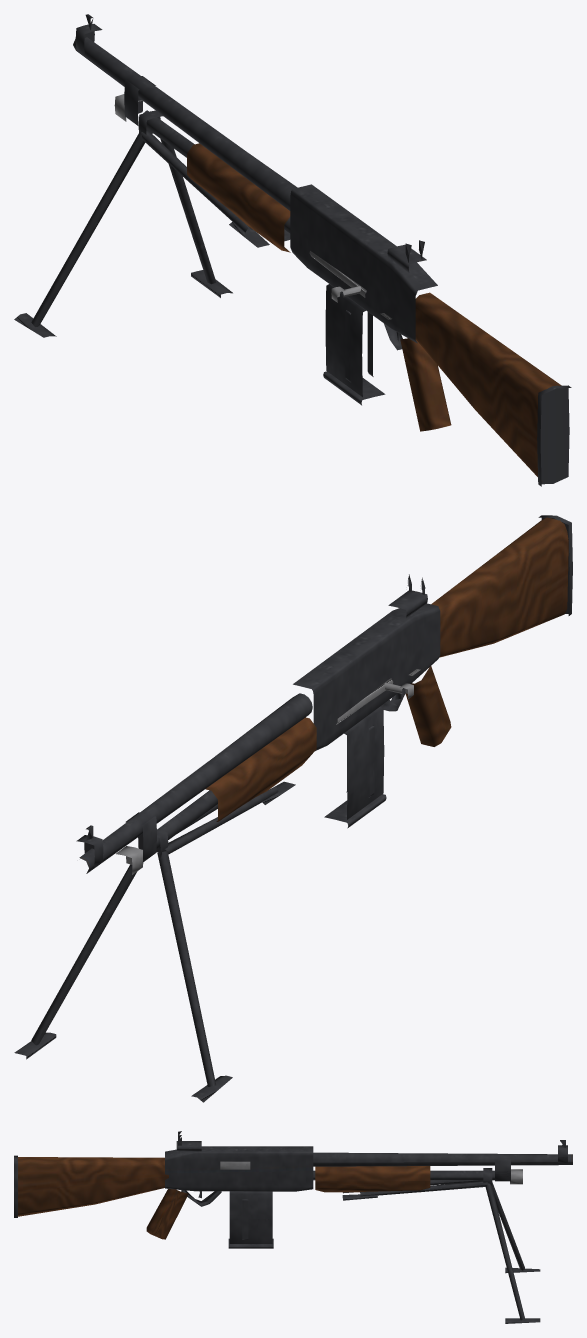
The model's file is m01_rkm_wz28_lod1.glb.
3 renders of one model, top to bottom at view 1: azimuth 30°, elevation 25°; view 2: azimuth 150°, elevation 25°; view 3: azimuth 270°, elevation 25°, orthographic. The views are drawn at different scales.
Parts seen in each view (by area): view 1: rkm_body, rkm_magazine, rkm_bipod_open, rkm_bipod_folded; view 2: rkm_body, rkm_bipod_open, rkm_magazine, rkm_bipod_folded; view 3: rkm_body, rkm_magazine, rkm_bipod_open, rkm_bipod_folded.
Boxes of the visible parts, box(x1,y1,x2,y2) form: rkm_body: box(73, 14, 571, 486); rkm_magazine: box(323, 284, 385, 405); rkm_bipod_open: box(14, 132, 232, 337); rkm_bipod_folded: box(140, 130, 290, 247); rkm_body: box(76, 515, 572, 874); rkm_bipod_open: box(14, 850, 232, 1102); rkm_magazine: box(324, 706, 386, 828); rkm_bipod_folded: box(159, 781, 295, 854); rkm_body: box(14, 1131, 572, 1239); rkm_magazine: box(228, 1191, 273, 1248); rkm_bipod_open: box(485, 1182, 540, 1323); rkm_bipod_folded: box(342, 1180, 487, 1200).
Size of the model in its own units: 0.2574 by 0.3606 by 1.12.
1 material, 1 textured.
